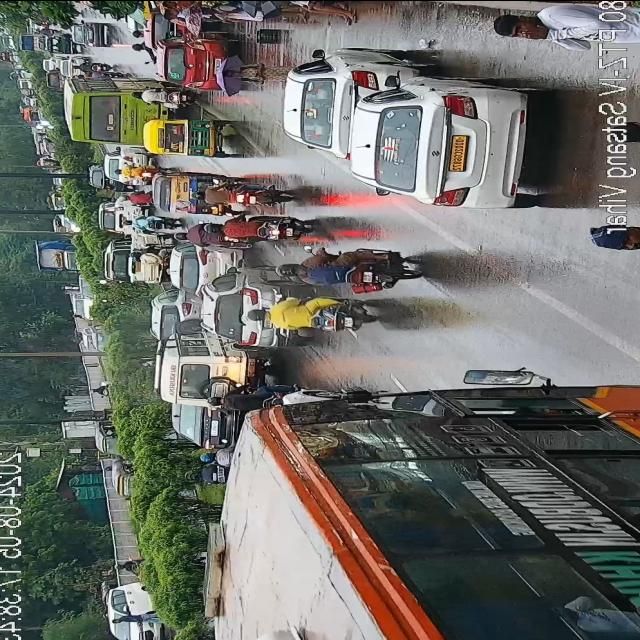2-wheelers: (280, 247, 416, 290), (250, 292, 374, 330), (194, 182, 296, 212), (204, 214, 308, 238), (184, 448, 230, 486), (206, 387, 274, 411), (142, 88, 196, 115), (170, 230, 250, 247), (128, 216, 174, 230), (72, 62, 114, 72), (118, 192, 150, 202)
auto: (146, 112, 236, 158), (49, 34, 78, 57)
bus: (266, 371, 640, 640), (61, 72, 176, 156)
car: (356, 64, 538, 214), (283, 52, 389, 154), (210, 263, 286, 352), (160, 335, 258, 397), (103, 582, 167, 640), (162, 246, 232, 296), (161, 399, 237, 445), (104, 233, 166, 288), (164, 34, 222, 88), (206, 509, 224, 620), (104, 149, 152, 187), (153, 294, 201, 329), (72, 24, 112, 52), (100, 200, 130, 230), (85, 161, 107, 191), (58, 56, 78, 70)
pedestrian: (494, 6, 601, 51), (164, 2, 240, 28), (272, 0, 354, 24), (592, 227, 640, 258), (217, 66, 284, 84)
